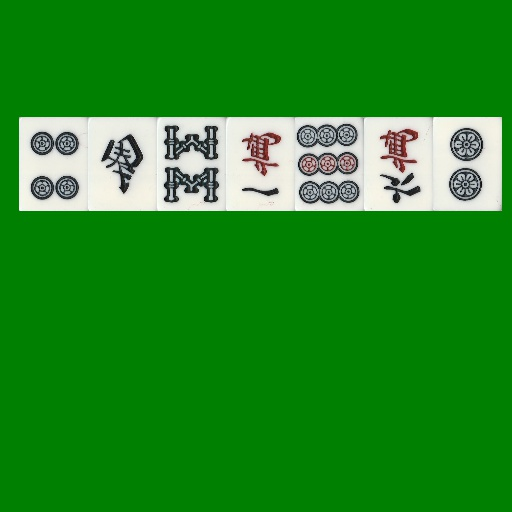1m: (226, 117, 295, 211)
2p: (433, 117, 502, 211)
4p: (19, 117, 88, 211)
6m: (364, 117, 433, 211)
8s: (157, 117, 226, 211)
9p: (295, 117, 364, 211)
south: (88, 117, 157, 211)
